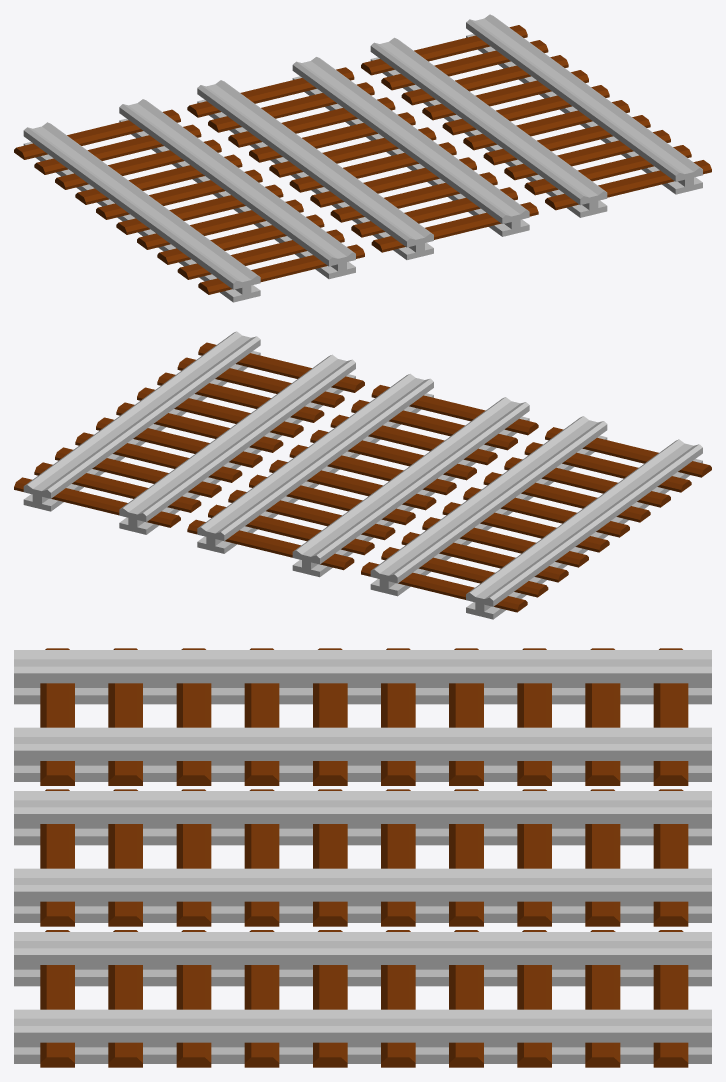
The model's file is Rails.fbx.
3 views of the same model, one above another, from view 1: azimuth 30°, elevation 25°; view 2: azimuth 150°, elevation 25°; view 3: azimuth 270°, elevation 25° (orthographic). The views are drawn at different scales.
Parts seen in each view (by area): view 1: Cube.010, Cube.008, Cube.006, Cube.007, Cube.011, Cube.009; view 2: Cube.008, Cube.010, Cube.006, Cube.007, Cube.009, Cube.011; view 3: Cube.010, Cube.006, Cube.008, Cube.009, Cube.007, Cube.011.
Part boxes in pixels (<box>): Cube.010: <box>23,99,355,302</box>; Cube.008: <box>370,14,702,217</box>; Cube.006: <box>197,57,529,259</box>; Cube.007: <box>187,67,538,252</box>; Cube.011: <box>14,109,364,294</box>; Cube.009: <box>361,25,711,210</box>; Cube.008: <box>23,331,355,534</box>; Cube.010: <box>370,416,702,619</box>; Cube.006: <box>197,373,529,577</box>; Cube.007: <box>187,385,538,570</box>; Cube.009: <box>14,342,364,527</box>; Cube.011: <box>361,427,711,612</box>; Cube.010: <box>14,650,711,781</box>; Cube.006: <box>14,791,711,922</box>; Cube.008: <box>14,932,711,1063</box>; Cube.009: <box>40,930,688,1067</box>; Cube.007: <box>40,789,688,926</box>; Cube.011: <box>40,648,688,785</box>.
Size of the model in its own units: 1114 by 44.62 by 804.
